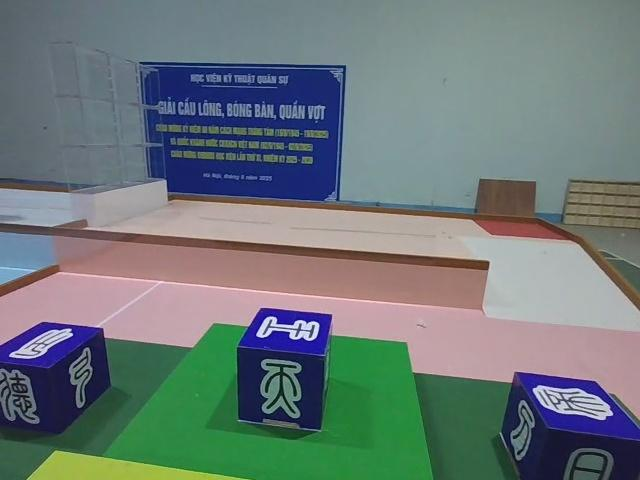R2 Fake Blue: (498, 373, 639, 480), (0, 323, 113, 439), (236, 310, 335, 434)
